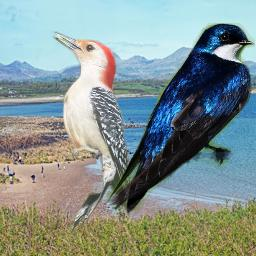Swallow: (106, 23, 255, 214)
Woodpecker: (49, 31, 131, 234)
